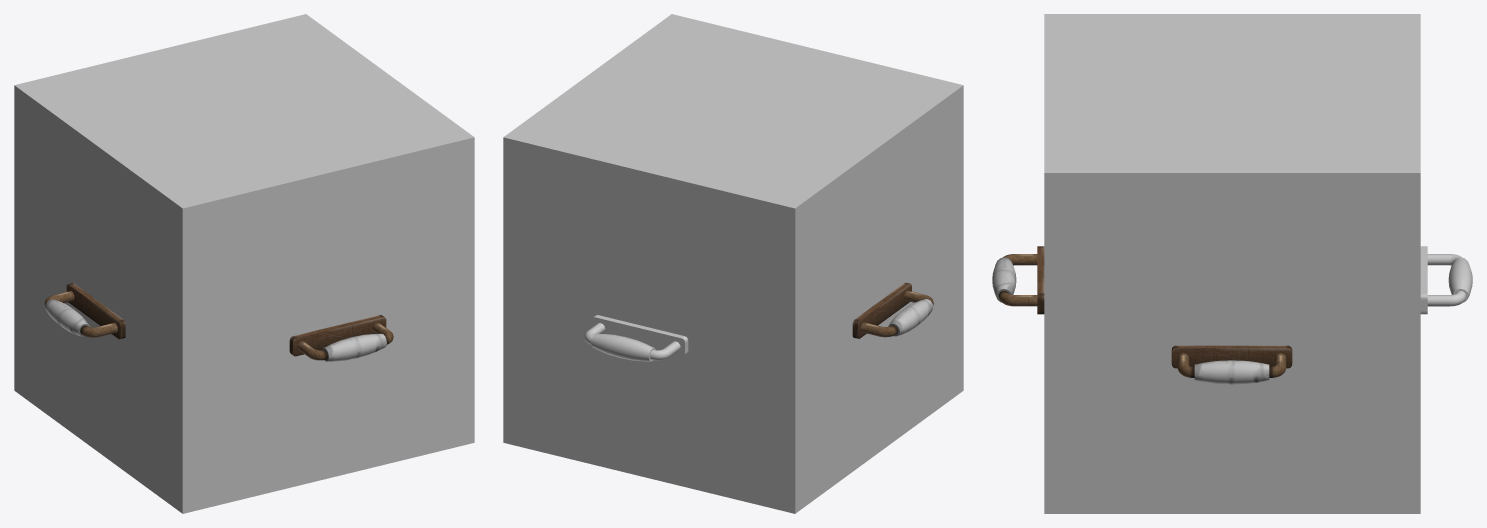
File: cubewithhandles.FBX
3 renders of one model, left to right at view 1: azimuth 30°, elevation 25°; view 2: azimuth 150°, elevation 25°; view 3: azimuth 270°, elevation 25°, orthographic. The views are drawn at different scales.
Parts seen in each view (by area): view 1: polySurface2; view 2: polySurface2; view 3: polySurface2.
Boxes of the visible parts, left/top/right/bottom form: polySurface2: left=14, top=14, right=474, bottom=513; polySurface2: left=503, top=14, right=963, bottom=513; polySurface2: left=992, top=14, right=1472, bottom=513.
Bounding box in the file's own units: 97.33 × 76.2 × 97.35.
